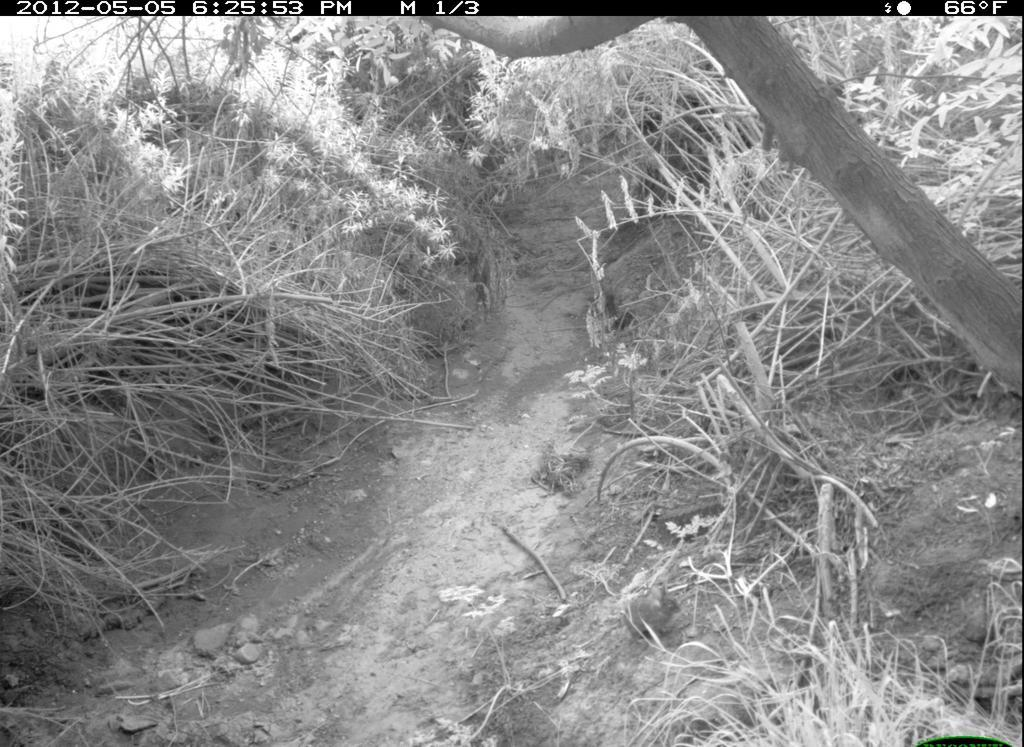rabbit: (621, 574, 688, 649)
